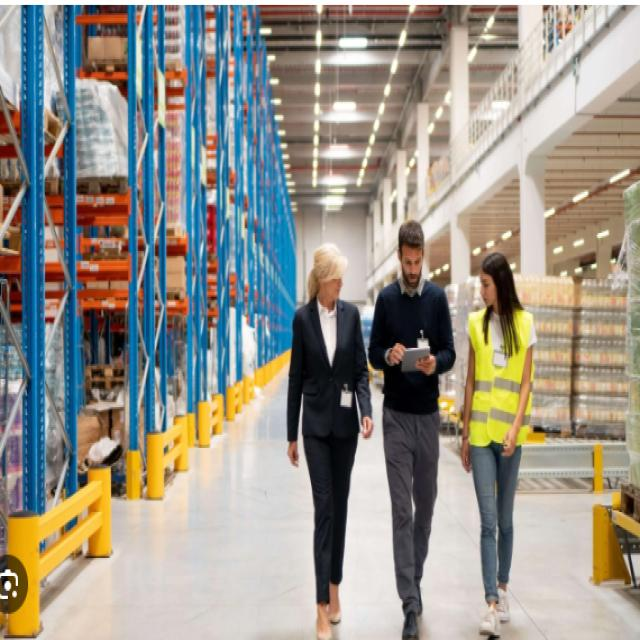vest: (464, 302, 537, 460)
